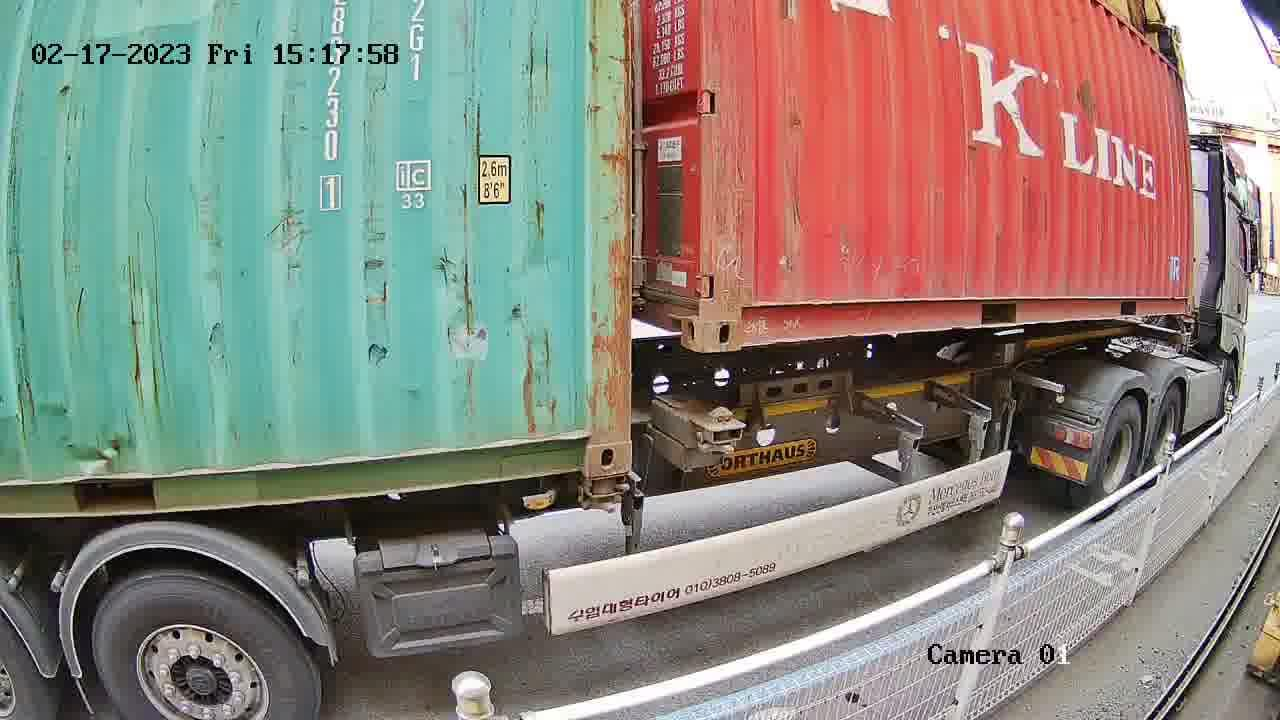Cone: (696, 406, 747, 459), (578, 475, 629, 516)
Hole_L: (704, 281, 777, 353)
Hole_R: (544, 407, 631, 484), (657, 271, 705, 352)
Tire: (94, 575, 315, 714), (1097, 399, 1142, 505), (1150, 386, 1183, 470)
